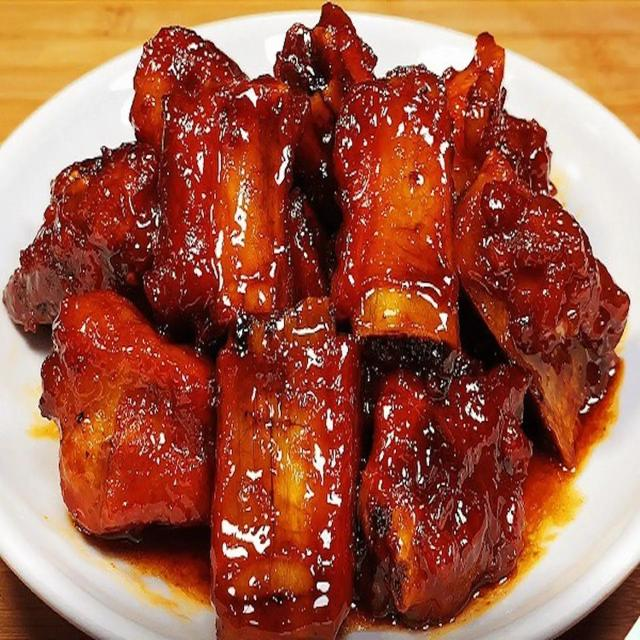suon xao: (3, 4, 630, 640)
